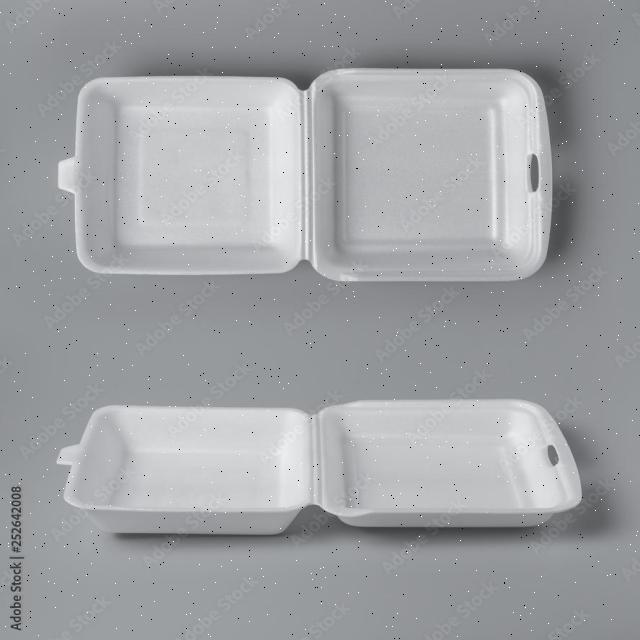styrofoam: (56, 66, 554, 283), (56, 396, 584, 536)
